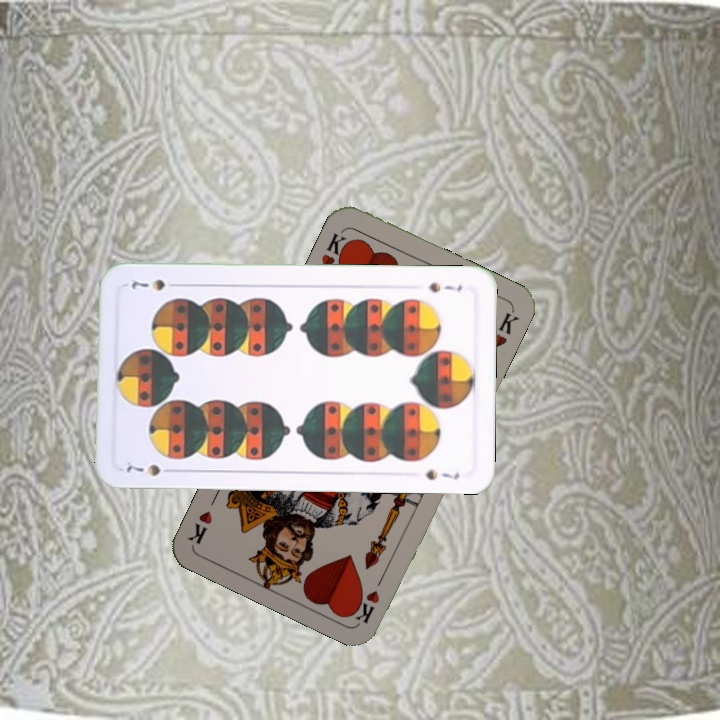HK: (351, 568, 388, 626), (317, 227, 354, 270)
S7: (122, 460, 178, 479), (425, 278, 465, 295)
